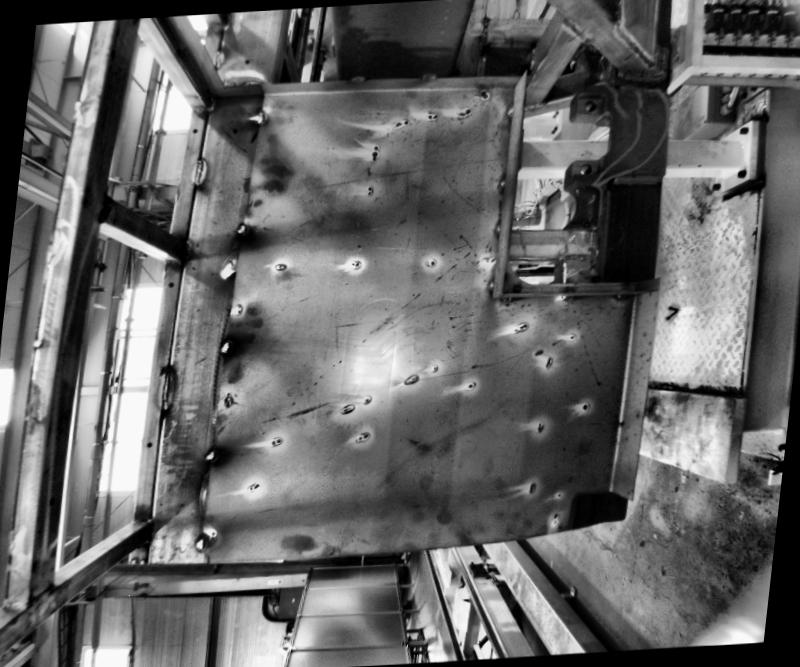hole: (584, 101, 600, 114), (578, 162, 592, 176), (242, 56, 253, 64), (167, 281, 177, 287), (231, 128, 240, 134), (146, 442, 153, 448), (195, 128, 199, 132)
welding: (612, 26, 656, 67), (560, 18, 584, 45), (163, 367, 175, 417), (206, 445, 222, 467), (236, 220, 252, 240), (214, 46, 226, 71), (194, 156, 204, 184), (421, 70, 440, 82), (220, 340, 234, 356), (255, 109, 267, 127), (504, 104, 518, 118), (196, 536, 209, 550), (182, 242, 191, 262), (498, 174, 510, 188), (612, 292, 632, 300), (492, 220, 502, 233), (553, 294, 574, 300), (353, 76, 366, 82), (488, 280, 494, 292), (499, 298, 508, 302)
